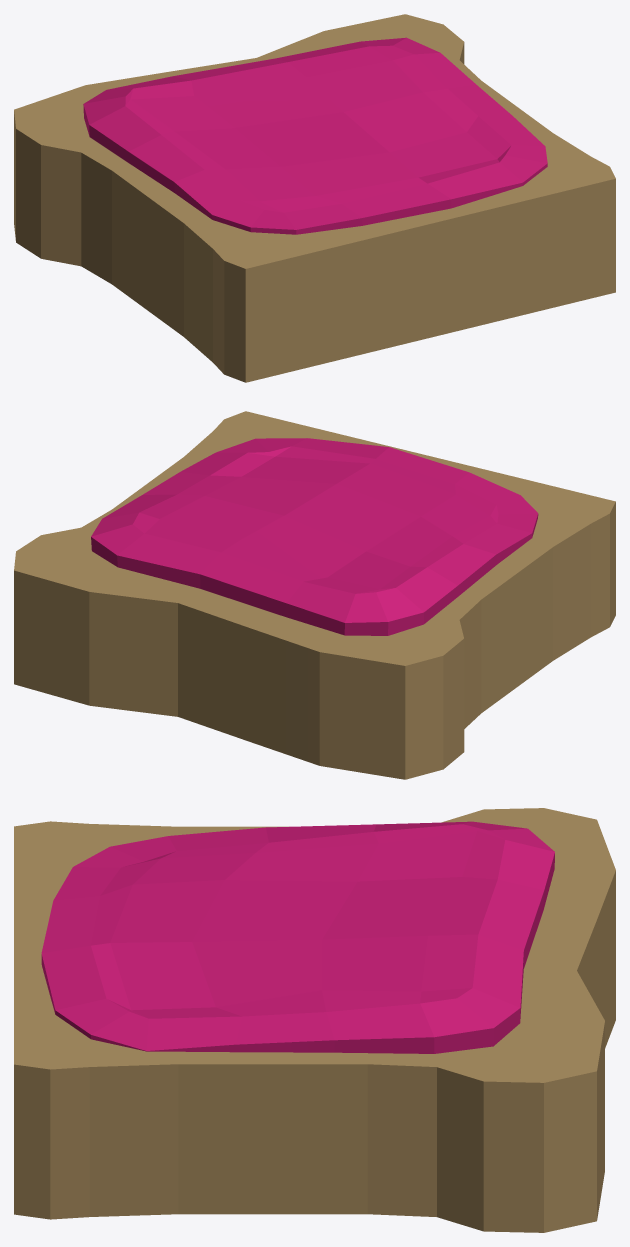
Rendered from toast 1.fbx.
3 views of the same model, one above another, from view 1: azimuth 30°, elevation 25°; view 2: azimuth 150°, elevation 25°; view 3: azimuth 270°, elevation 25° (orthographic). The views are drawn at different scales.
Visible parts, largest first — view 1: toast; view 2: toast; view 3: toast.
Part boxes in pixels (x1,y1,x2,y2): toast: [14, 14, 615, 382]; toast: [14, 411, 615, 779]; toast: [14, 808, 615, 1232].
Size of the model in its own units: 28.83 by 9.03 by 26.68.
